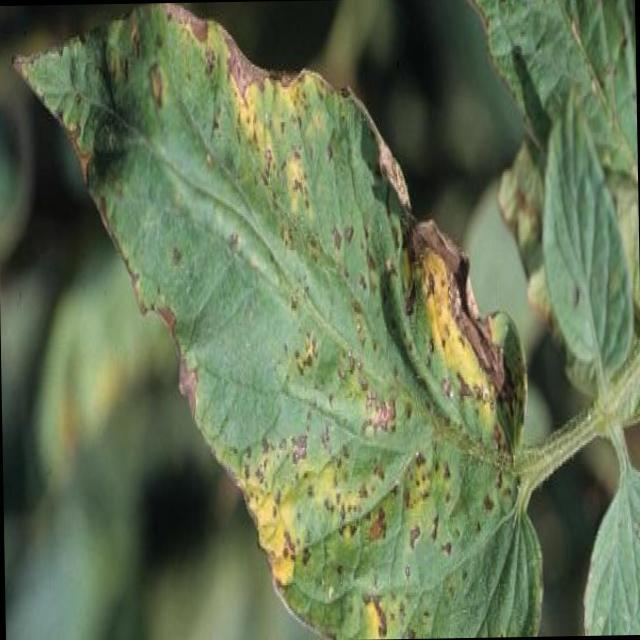Bacterial Spot: (11, 0, 520, 640)
